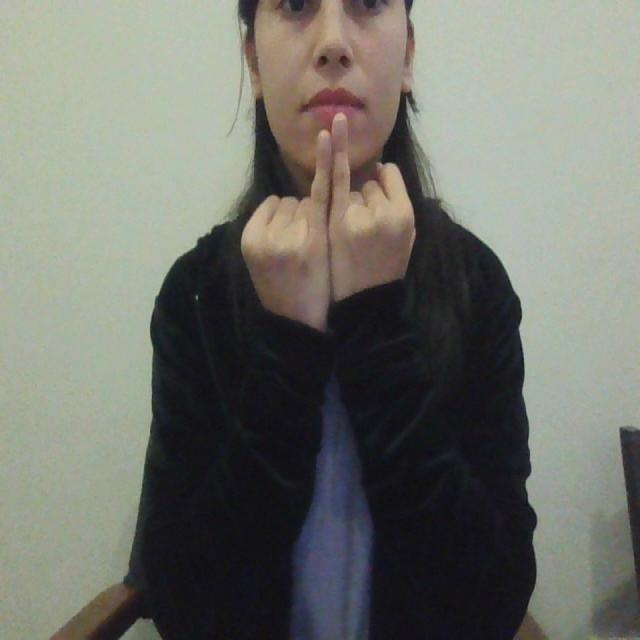Kardes: (234, 109, 424, 335)
